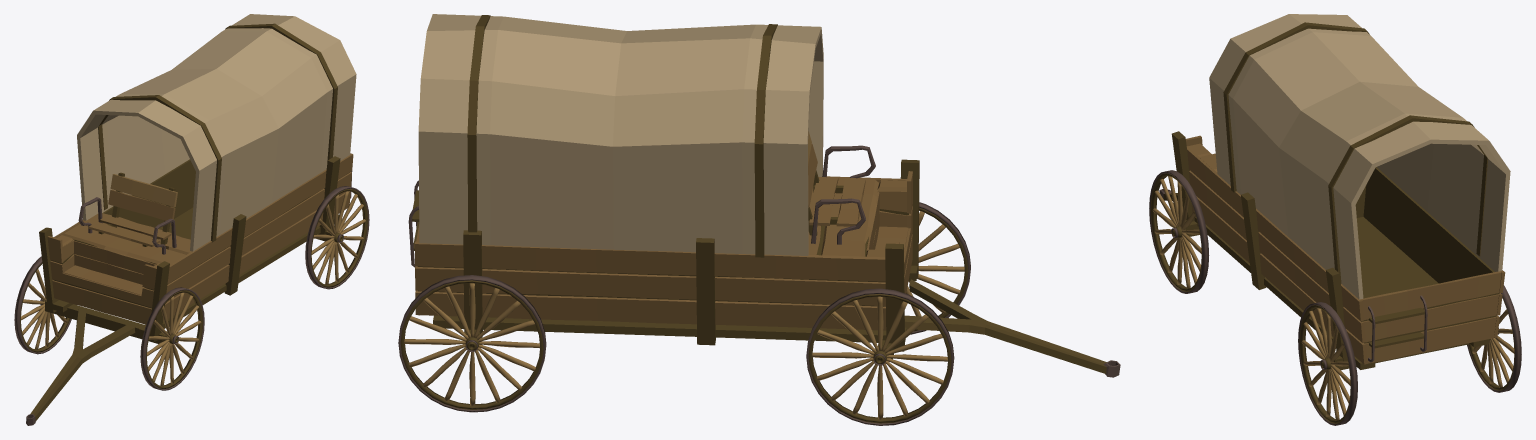
The model's file is Wagon.fbx.
3 views of the same model, side by side, from view 1: azimuth 30°, elevation 25°; view 2: azimuth 150°, elevation 25°; view 3: azimuth 270°, elevation 25° (orthographic). The views are drawn at different scales.
Visible parts, largest first — view 1: Cube.040; view 2: Cube.040; view 3: Cube.040.
Part boxes in pixels (x1,y1,x2,y2): Cube.040: (14, 14, 369, 425); Cube.040: (398, 14, 1120, 425); Cube.040: (1149, 14, 1521, 425).
Bounding box in the file's own units: 502 × 275 × 323.
